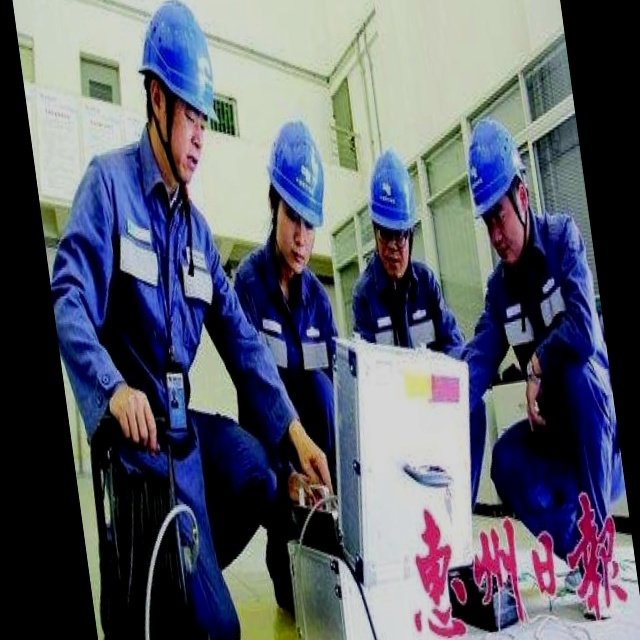Con_Casco: (129, 0, 218, 161), (458, 115, 542, 252), (262, 121, 329, 268), (358, 146, 423, 270)
